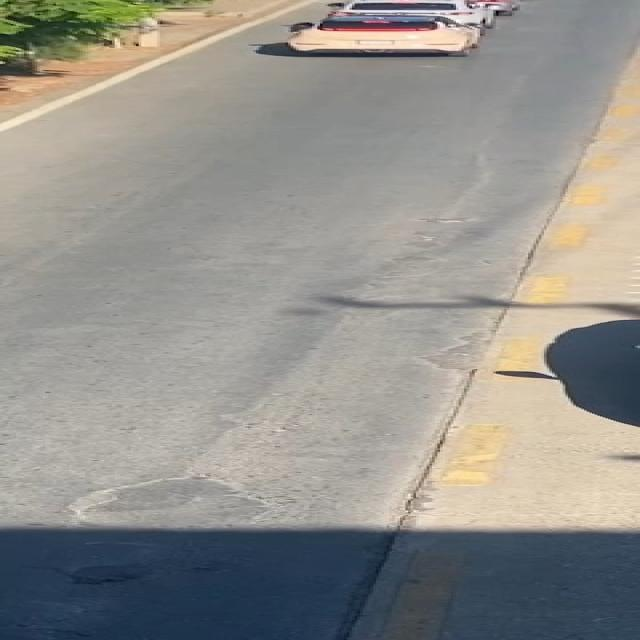car: (263, 13, 518, 58)
